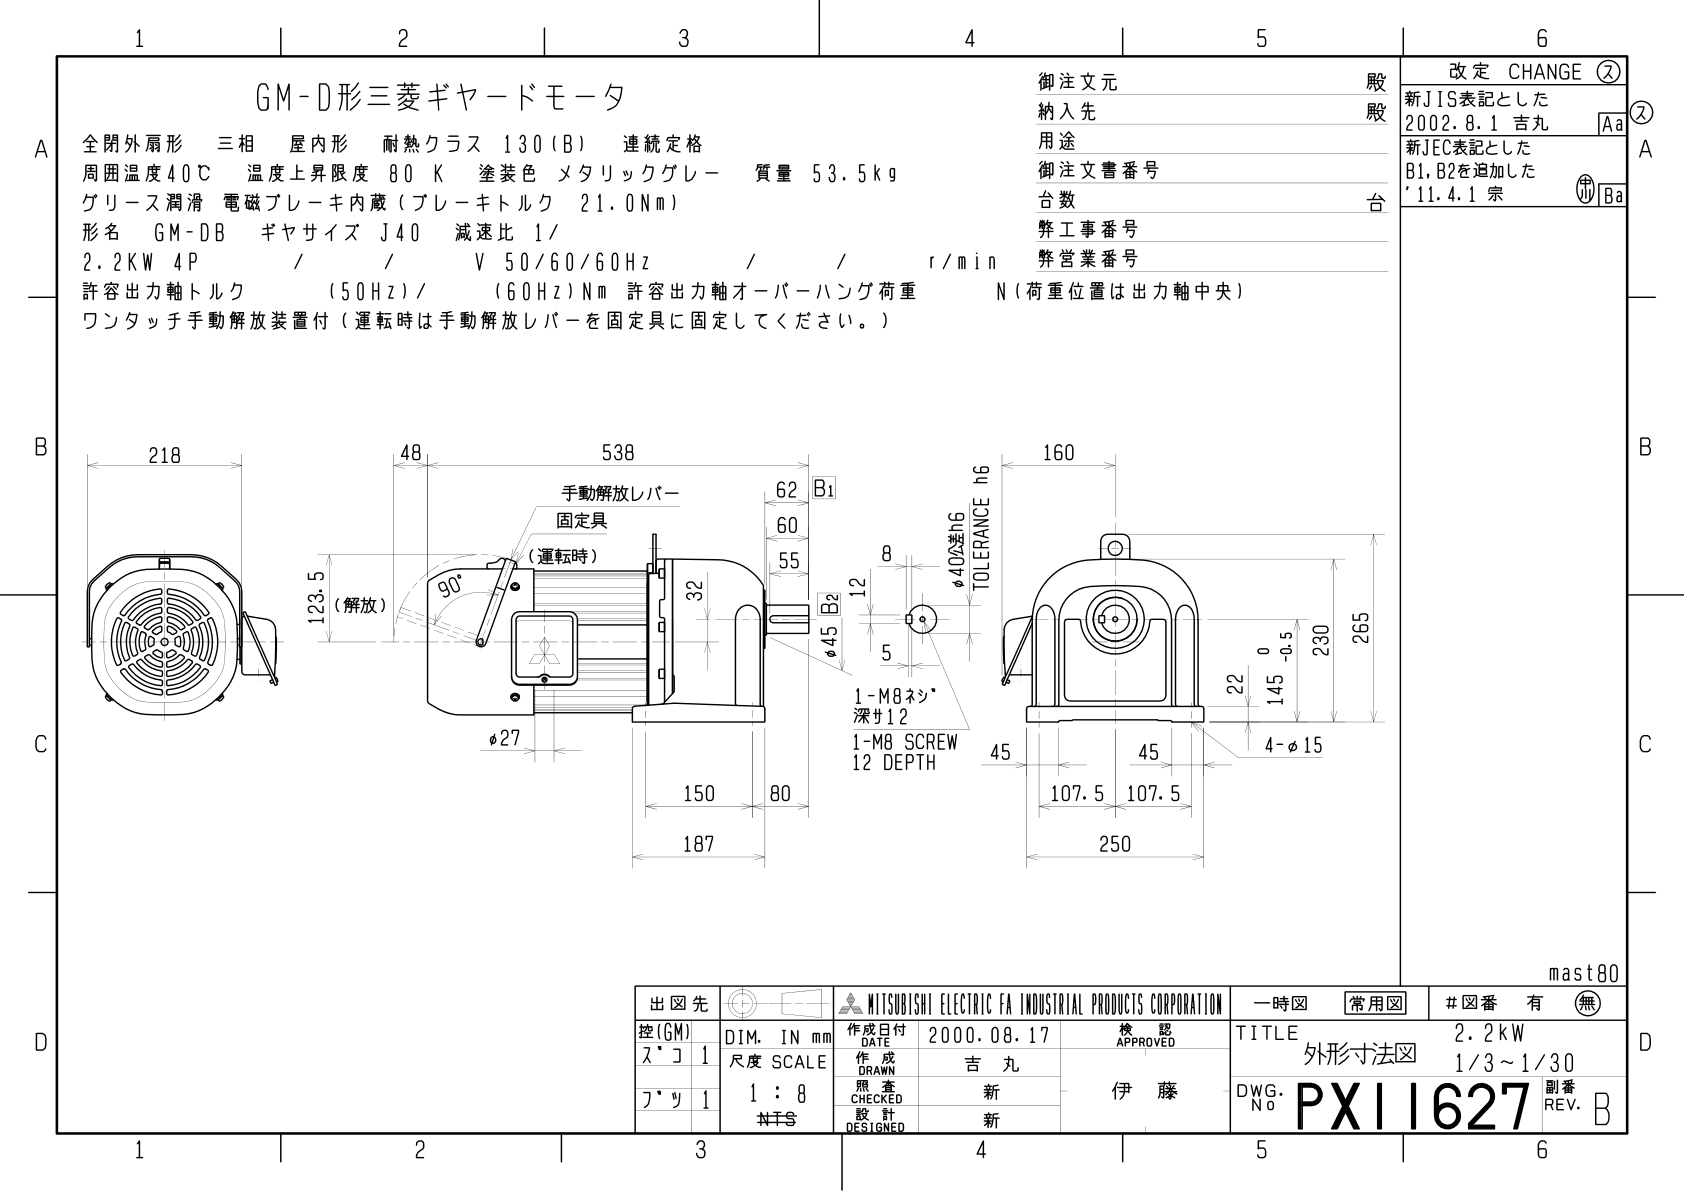GM_D_手動解放ブレーキ＿三相_脚: (73, 378, 1401, 927)
